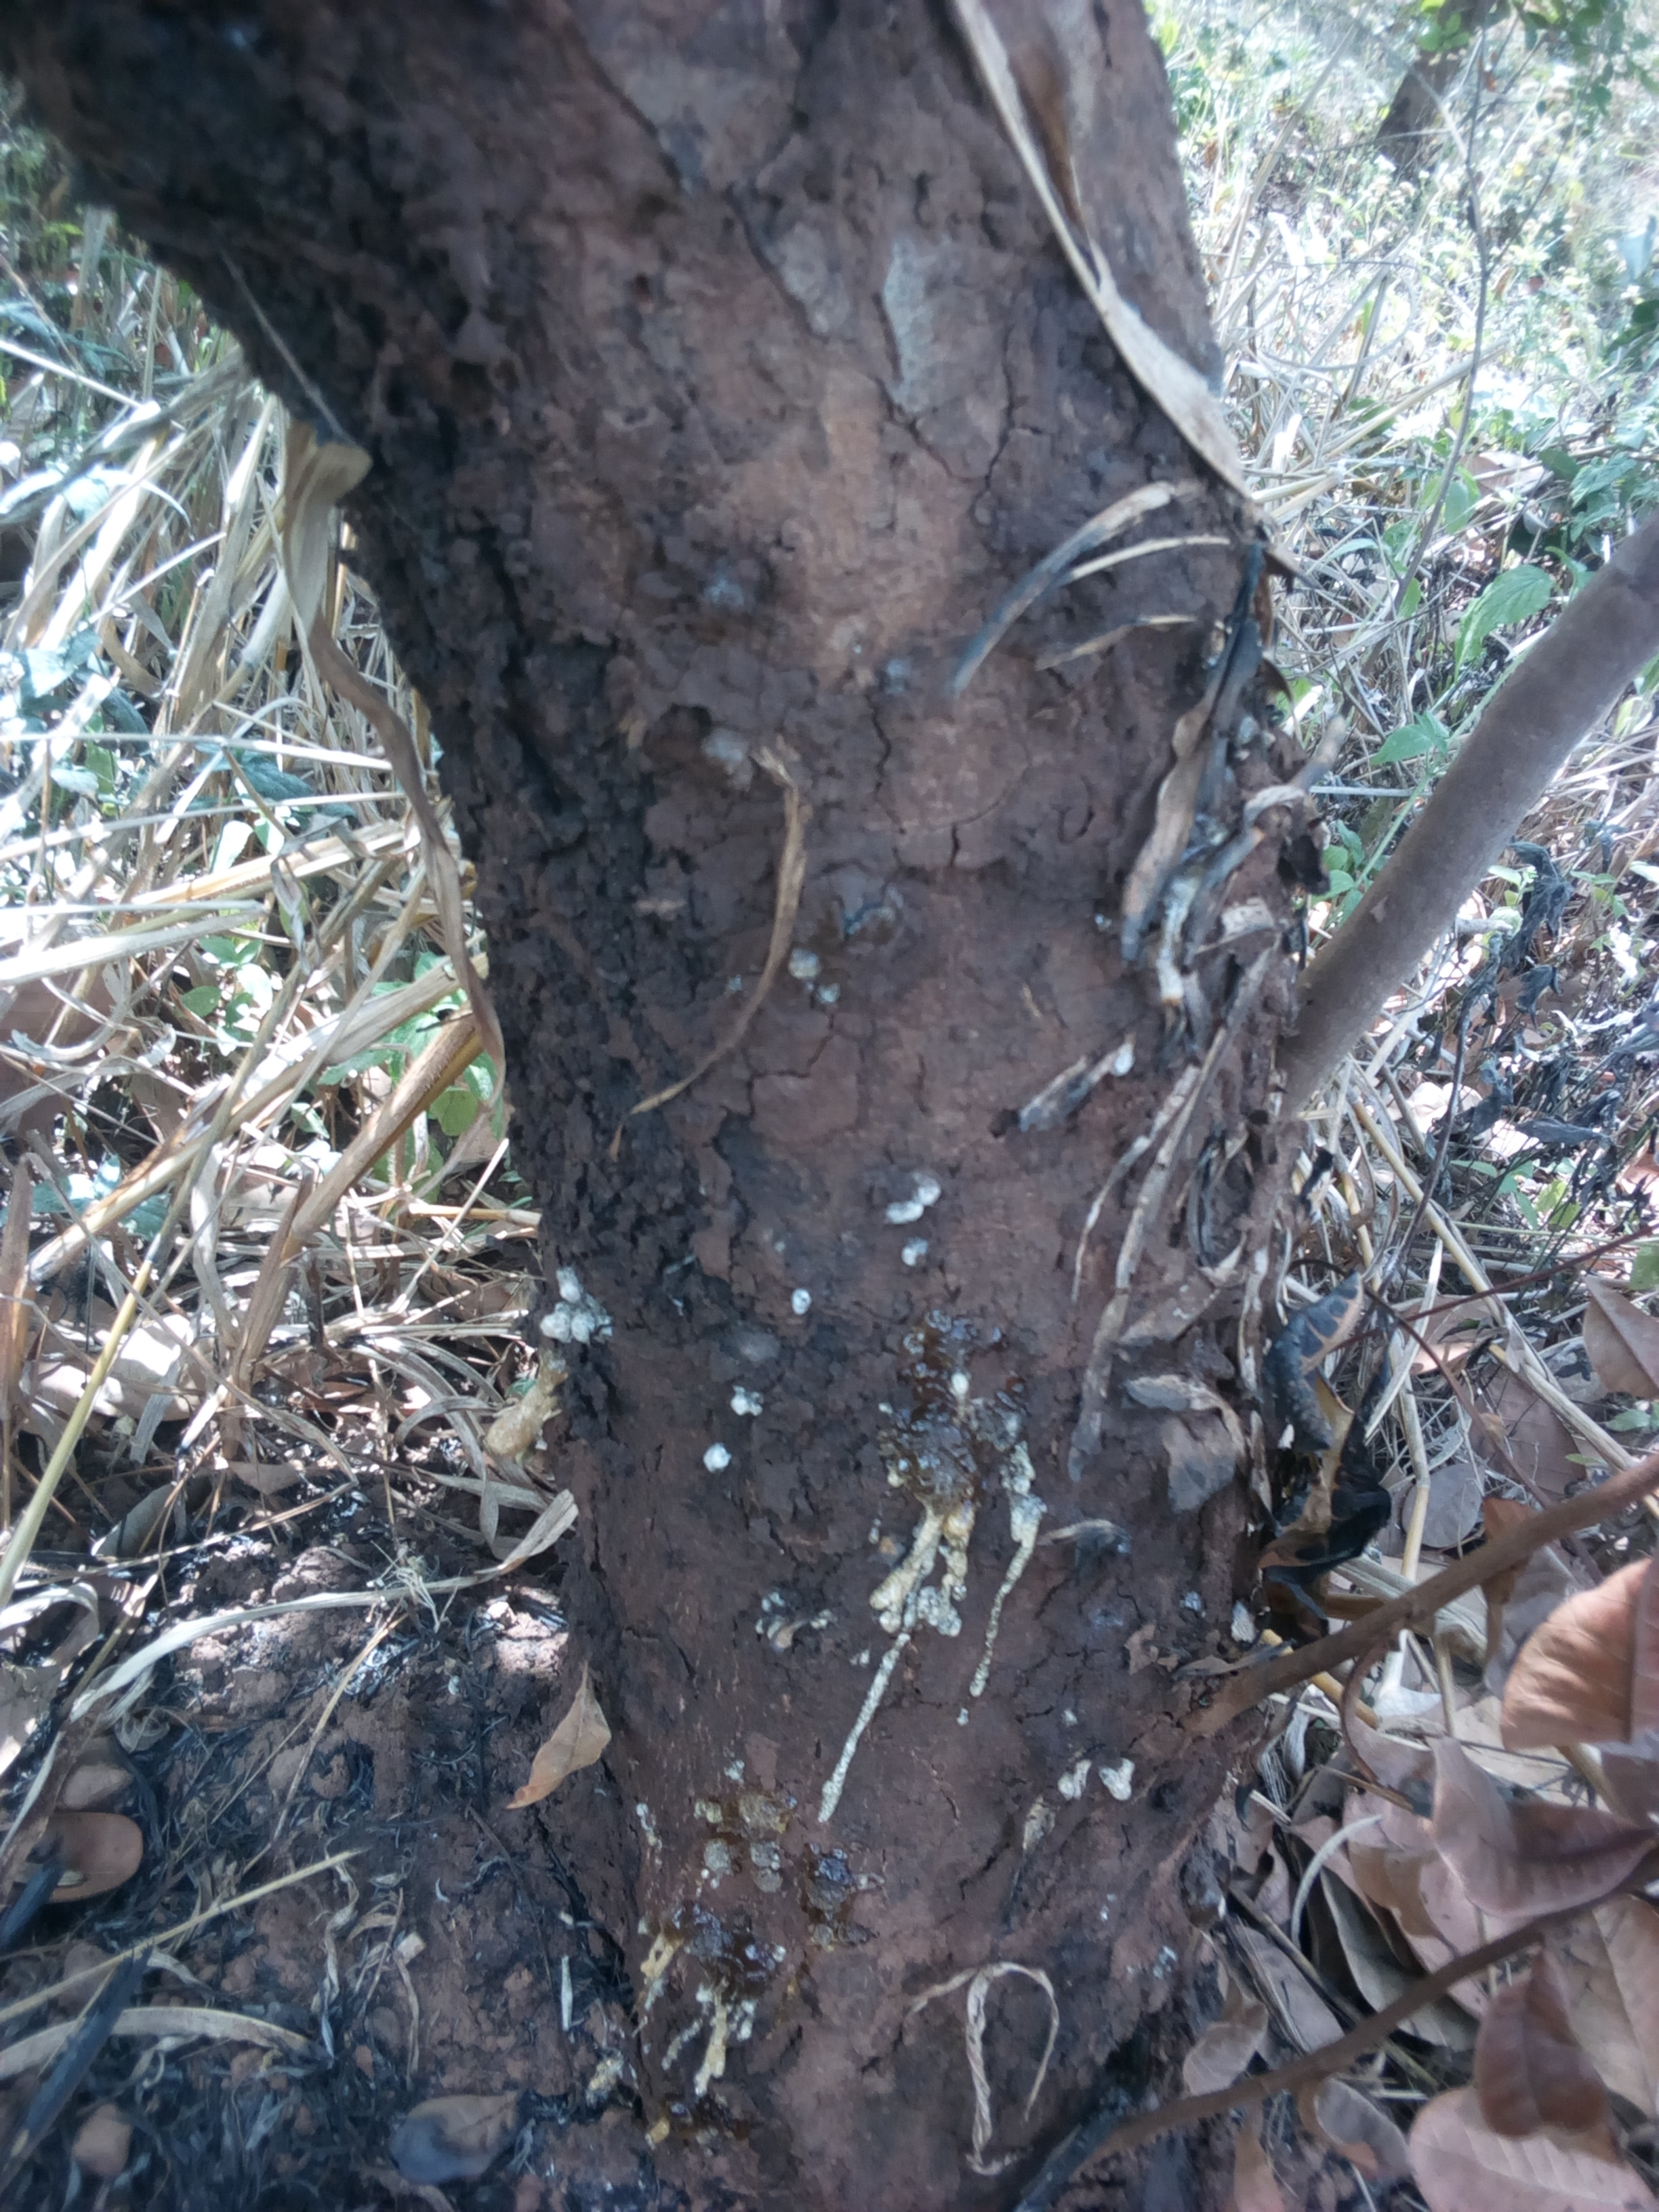Termites: (495, 19, 1121, 1289)
